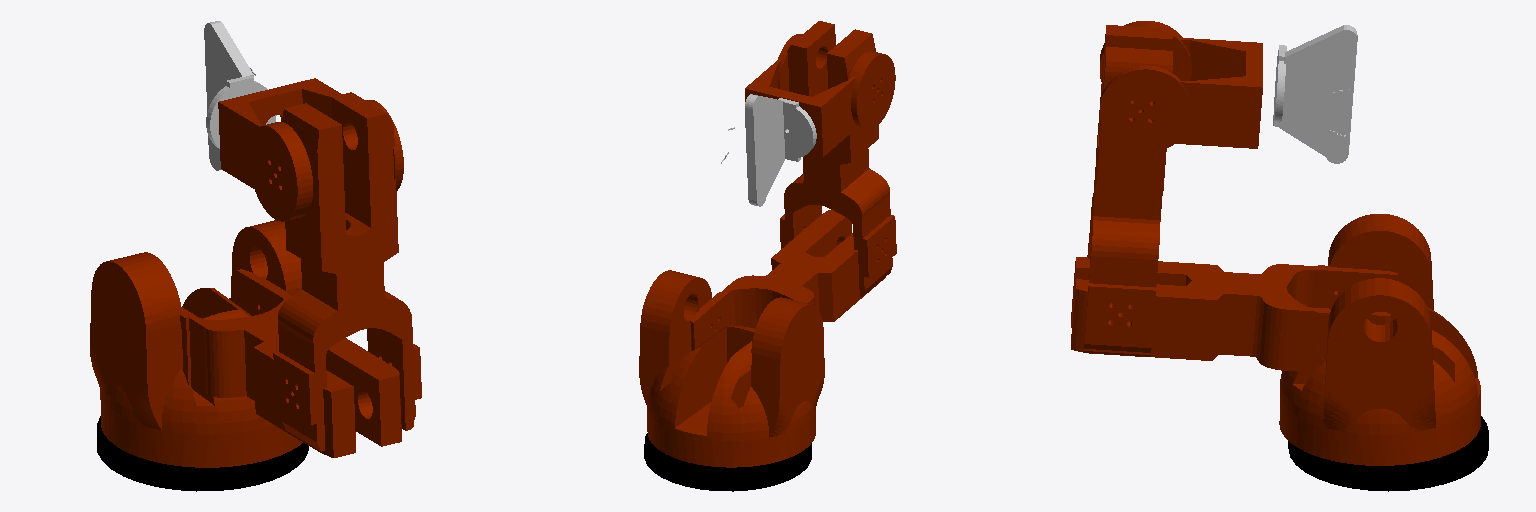
robot.urdf — braccio:
<?xml version="1.0"?>
<robot name="braccio">
     <gazebo>
     <plugin name="gazebo_ros_control" filename="libgazebo_ros_control.so">
       <robotNamespace>/robot</robotNamespace>
       <robotSimType>gazebo_ros_control/DefaultRobotHWSim</robotSimType>
       <controlPeriod>0.001</controlPeriod>
       <legacyModeNS>true</legacyModeNS>
     </plugin>
   </gazebo>
    <!-- Color de materiales -->
    <material name="orange">
        <color rgba="0.57 0.17 0.0 1" />
    </material>
    <material name="white">
        <color rgba="0.8 0.8 0.8 1.0" />
    </material>
    <material name="black">
        <color rgba="0 0 0 0.50" />
    </material>

    <!--Mascaras para partes del robot-->
    <link name="base_link">
        <visual>
            <geometry>
                <cylinder length="0.01" radius=".053" />
            </geometry>
            <material name="black" />
            <origin rpy="0 0 0" xyz="0 0 0" />
        </visual>
        <inertial>
            <origin rpy="0 0 0" xyz="0 0 0" />
            <mass value="2" />
            <inertia ixx="0.015" ixy="0" ixz="0" iyy="0.00666666666667" iyz="0" izz="0.0216666666667" />
        </inertial>
    </link>

    <link name="braccio_base_link">
        <visual>
            <geometry>
                <mesh filename="package://BRT_Description/meshes/braccio_base.stl" scale="0.01 0.01 0.01" />
            </geometry>
            <material name="orange" />
            <origin rpy="0 0 0" xyz="0 -0.0085 0.01" />
        </visual>
        <collision>
            <geometry>
                <mesh filename="package://BRT_Description/meshes/braccio_base.stl" scale="0.01 0.01 0.01" />
            </geometry>
            <origin rpy="0 0 0" xyz="0 -0.0085 0.01" />
        </collision>
        <inertial>
            <origin rpy="0 0 0" xyz="0 -0.0085 0.01" />
            <mass value="2" />
            <inertia ixx="0.015" ixy="0" ixz="0" iyy="0.00666666666667" iyz="0" izz="0.0216666666667" />
        </inertial>
    </link>

    <link name="shoulder_link">
        <visual>
            <geometry>
                <mesh filename="package://BRT_Description/meshes/braccio_shoulder.stl" scale="0.01 0.01 0.01" />
            </geometry>
            <material name="orange" />
            <origin rpy="0 0 0" xyz="-0.0055 0.001 -0.006" />
        </visual>
        <collision>
            <geometry>
                <mesh filename="package://BRT_Description/meshes/braccio_shoulder.stl" scale="0.01 0.01 0.01" />
            </geometry>
             <origin rpy="0 0 0" xyz="-0.0055 0.001 -0.006" />
        </collision>
        <inertial>
             <origin rpy="0 0 0" xyz="-0.0055 0.001 -0.006" />
            <mass value="0.1" />
            <inertia ixx="0.000348958333333" ixy="0" ixz="0" iyy="0.000348958333333" iyz="0" izz="3.125e-05" />
        </inertial>
    </link>

    <link name="elbow_link">
        <visual>
            <geometry>
                <mesh filename="package://BRT_Description/meshes/braccio_elbow.stl" scale="0.01 0.01 0.01" />
            </geometry>
            <material name="orange" />
            <origin rpy="0 0 0" xyz="-0.003 -0.01 -0.02" />
        </visual>
        <collision>
            <geometry>
                <mesh filename="package://BRT_Description/meshes/braccio_elbow.stl" scale="0.01 0.01 0.01" />
            </geometry>
            <origin rpy="0 0 0" xyz="-0.003 -0.01 -0.02" />
        </collision>
        <inertial>
            <origin rpy="0 0 0" xyz="-0.003 -0.01 -0.02" />
            <mass value="0.1" />
            <inertia ixx="0.000348958333333" ixy="0" ixz="0" iyy="0.000348958333333" iyz="0" izz="3.125e-05" />
        </inertial>
    </link>

    <link name="wrist_pitch_link">
        <visual>
            <geometry>
                <mesh filename="package://BRT_Description/meshes/braccio_wrist_pitch.stl" scale="0.01 0.01 0.01" />
            </geometry>
            <material name="orange" />
            <origin rpy="0 0 0" xyz="0.003 -0.000 -0.035" />
        </visual>
        <collision>
            <geometry>
                 <mesh filename="package://BRT_Description/meshes/braccio_wrist_pitch.stl" scale="0.01 0.01 0.01" />
            </geometry>
            <origin rpy="0 0 0" xyz="0.003 -0.000 -0.035" />
        </collision>
        <inertial>
            <origin rpy="0 0 0" xyz="0.003 -0.000 -0.035" />
            <mass value="0.1" />
            <inertia ixx="0.000348958333333" ixy="0" ixz="0" iyy="0.000348958333333" iyz="0" izz="3.125e-05" />
        </inertial>
    </link>

   <link name="wrist_roll_link">
        <visual>
            <geometry>
                <mesh filename="package://BRT_Description/meshes/braccio_wrist_roll.stl" scale="0.01 0.01 0.01" />
            </geometry>
            <material name="white" />
            <origin rpy="0 0 0" xyz="0.006 0.01 -0.001" />
        </visual>
        <collision>
            <geometry>
                <mesh filename="package://BRT_Description/meshes/braccio_wrist_roll.stl" scale="0.01 0.01 0.01" />
            </geometry>
            <origin rpy="0 0 0" xyz="0.006 0.01 -0.001" />
        </collision>
        <inertial>
            <origin rpy="0 0 0" xyz="0.006 0.01 -0.001" />
            <mass value="0.1" />
            <inertia ixx="0.000348958333333" ixy="0" ixz="0" iyy="0.000348958333333" iyz="0" izz="3.125e-05" />
        </inertial>
    </link>

    <link name="left_gripper_link">
        <visual>
            <geometry>
                <mesh filename="package://BRT_Description/meshes/braccio_left_gripper.stl" scale="0.001 0.001 0.001" />
            </geometry>
            <material name="white" />
            <origin rpy="0 1.5708 0" xyz="-0.003 -0.014 0" />
        </visual>
        <collision>
            <origin rpy="0 1.5708 0" xyz="-0.003 -0.014 0" />
            <geometry>
                 <mesh filename="package://BRT_Description/meshes/braccio_left_gripper.stl" scale="0.001 0.001 0.001" />
            </geometry>
        </collision>
        <inertial>
            <mass value="0.1" />
            <inertia ixx="0.000348958333333" ixy="0" ixz="0" iyy="0.000348958333333" iyz="0" izz="3.125e-05" />
        </inertial>
    </link>

    <link name="right_gripper_link">
        <visual>
            <geometry>
                <mesh filename="package://BRT_Description/meshes/braccio_right_gripper.stl" scale="0.001 0.001 0.001" />
            </geometry>
            <material name="white" />
            <origin rpy="0 1.5708 0" xyz="-0.003 -0.0194 0" />
        </visual>
        <collision>
            <origin rpy="0 1.5708 0" xyz="-0.003 -0.0194 0" />
            <geometry>
                 <mesh filename="package://BRT_Description/meshes/braccio_right_gripper.stl" scale="0.001 0.001 0.001" />
            </geometry>
        </collision>
        <inertial>
            <mass value="0.1" />
            <inertia ixx="0.000348958333333" ixy="0" ixz="0" iyy="0.000348958333333" iyz="0" izz="3.125e-05" />
        </inertial>
    </link>

    <!--Articulaciones del robot-->

    <joint name="base_joint" type="revolute">
        <axis xyz="0 0 -1" />
        <limit effort="1000.0" lower="0.0" upper="3.1416" velocity="1.0" />
        <origin rpy="0 0 0" xyz="0 0 0" />
        <parent link="base_link" />
        <child link="braccio_base_link" />
    </joint>
    <transmission name="base_trasmision">
        <type>transmission_interface/SimpleTransmission</type>
        <joint name="base_joint">
            <hardwareInterface>
                hardware_interface/PositionJointInterface
            </hardwareInterface>
        </joint>
        <actuator name="base_motor">
        <mechanicalReduction>1</mechanicalReduction>
        </actuator>
    </transmission>

    <joint name="shoulder_joint" type="revolute">
        <axis xyz="1 0 0" />
        <limit effort="1000.0" lower="0.2" upper="2.8" velocity="1.0" />
        <origin rpy="0 0 0" xyz="0 -0.002 0.072" />
        <parent link="braccio_base_link" />
        <child link="shoulder_link" />
    </joint>
    <transmission name="shoulder_trasmision">
        <type>transmission_interface/SimpleTransmission</type>
        <joint name="shoulder_joint">
            <hardwareInterface>
                hardware_interface/PositionJointInterface
            </hardwareInterface>
        </joint>
        <actuator name="shoulder_motor">
        <mechanicalReduction>1</mechanicalReduction>
        </actuator>
    </transmission>

    <joint name="elbow_joint" type="revolute">
        <axis xyz="1 0 0" />
        <limit effort="1000.0" lower="0.0" upper="3.1416" velocity="1.0" />
        <origin rpy="-1.5708 0 0" xyz="0 0 0.125" />
        <parent link="shoulder_link" />
        <child link="elbow_link" />
    </joint>
    <transmission name="elbow_trasmision">
        <type>transmission_interface/SimpleTransmission</type>
        <joint name="elbow_joint">
            <hardwareInterface>
                hardware_interface/PositionJointInterface
            </hardwareInterface>
        </joint>
        <actuator name="elbow_motor">
        <mechanicalReduction>1</mechanicalReduction>
        </actuator>
    </transmission>

    <joint name="wrist_pitch_joint" type="revolute">
        <axis xyz="1 0 0" />
        <limit effort="1000.0" lower="0.0" upper="3.1416" velocity="1.0" />
        <origin rpy="-1.5708 0 0" xyz="0 0 0.125" />
        <parent link="elbow_link" />
        <child link="wrist_pitch_link" />
    </joint>
    <transmission name="wrist_pitch_trasmision">
        <type>transmission_interface/SimpleTransmission</type>
        <joint name="wrist_pitch_joint">
            <hardwareInterface>
                hardware_interface/PositionJointInterface
            </hardwareInterface>
        </joint>
        <actuator name="wrist_pitch_motor">
        <mechanicalReduction>1</mechanicalReduction>
        </actuator>
    </transmission>

    <joint name="wrist_roll_joint" type="revolute">
        <axis xyz="0 0 -1" />
        <limit effort="1000.0" lower="0.0" upper="3.1416" velocity="1.0" />
        <origin rpy="0 0 1.5708" xyz="0 0.0 0.06" />
        <parent link="wrist_pitch_link" />
        <child link="wrist_roll_link" />
    </joint>
    <transmission name="wrist_roll_trasmision">
        <type>transmission_interface/SimpleTransmission</type>
        <joint name="wrist_roll_joint">
            <hardwareInterface>
                hardware_interface/PositionJointInterface
            </hardwareInterface>
        </joint>
        <actuator name="wrist_roll_motor">
        <mechanicalReduction>1</mechanicalReduction>
        </actuator>
    </transmission>

    <joint name="gripper_joint" type="revolute">
        <axis xyz="0 -1 0" />
        <limit effort="1000.0" lower="0.95" upper="1.54" velocity="1.0" />
        <origin rpy="0 0 0" xyz="0.010 0 0.03" />
        <parent link="wrist_roll_link" />
        <child link="right_gripper_link" />
    </joint>
    <transmission name="gripper_trasmision">
        <type>transmission_interface/SimpleTransmission</type>
        <joint name="gripper_joint">
            <hardwareInterface>
                hardware_interface/PositionJointInterface
            </hardwareInterface>
        </joint>
        <actuator name="gripper_motor">
        <mechanicalReduction>1</mechanicalReduction>
        </actuator>
    </transmission>
    

    <joint name="sub_gripper_joint" type="revolute">
        <axis xyz="0 1 0" />
        <mimic joint="gripper_joint" />
        <limit effort="1000.0" lower="0.95" upper="1.54" velocity="1.0" />
        <origin rpy="0 3.1416 0" xyz="-0.010 0 0.03" />
        <parent link="wrist_roll_link" />
        <child link="left_gripper_link" />
    </joint>
    <transmission name="sub_gripper_trasmision">
        <type>transmission_interface/SimpleTransmission</type>
        <joint name="sub_gripper_joint">
            <hardwareInterface>
                hardware_interface/PositionJointInterface
            </hardwareInterface>
        </joint>
        <actuator name="sub_gripper_motor">
        <mechanicalReduction>1</mechanicalReduction>
        </actuator>
    </transmission>
    
     <link name="world"/>
    <joint name="world_joint" type="fixed">
        <parent link="world"/>
        <child link="base_link"/>
        <origin rpy="0.0 0.0 0.0" xyz="0.0 0.0 0.0"/>
    </joint>
    
    <gazebo reference="base_link">
        <mu1>1</mu1>
        <mu2>1</mu2>
        <selfCollide>true</selfCollide>
        <material>Gazebo/black</material>
    </gazebo>

  <gazebo reference="braccio_base_link">
    <material>Gazebo/Orange</material>
    <mu1>1</mu1>
    <mu2>1</mu2>
    <selfCollide>true</selfCollide>
  </gazebo>
  <gazebo reference="shoulder_link">
    <material>Gazebo/Orange</material>
    <mu1>1</mu1>
    <mu2>1</mu2>
    <selfCollide>true</selfCollide>
  </gazebo>
  <gazebo reference="elbow_link">
    <material>Gazebo/Orange</material>
    <mu1>1</mu1>
    <mu2>1</mu2>
    <selfCollide>true</selfCollide>
  </gazebo>
  <gazebo reference="wrist_pitch_link">
    <material>Gazebo/Orange</material>
    <mu1>1</mu1>
    <mu2>1</mu2>
    <selfCollide>true</selfCollide>
  </gazebo>
  <gazebo reference="wrist_roll_link">
    <material>Gazebo/Orange</material>
    <mu1>1</mu1>
    <mu2>1</mu2>
    <selfCollide>true</selfCollide>
  </gazebo>
  <gazebo reference="right_gripper_link">
    <material>Gazebo/White</material>
    <selfCollide>true</selfCollide>
    <kp>100000.0</kp>
    <kd>1.0</kd>
    <mu1>500.0</mu1>
    <mu2>200.0</mu2>
    <minDepth>0.002</minDepth>
    <maxVel>0</maxVel>
  </gazebo>
  <gazebo reference="left_gripper_link">
    <material>Gazebo/White</material>
    <selfCollide>true</selfCollide>
    <kp>100000.0</kp>
    <kd>1.0</kd>
    <mu1>500.0</mu1>
    <mu2>200.0</mu2>
    <minDepth>0.002</minDepth>
    <maxVel>0</maxVel>
  </gazebo>
    <gazebo reference="gripper_joint">
        <implicitSpringDamper>1</implicitSpringDamper>
    </gazebo>
    <gazebo reference="sub_gripper_joint">
     <implicitSpringDamper>1</implicitSpringDamper>
    </gazebo>
</robot>

--- Render facts (derived) ---
Views: 3 orthographic renders of the robot side by side, from view 1: azimuth 30°, elevation 25°; view 2: azimuth 150°, elevation 25°; view 3: azimuth 270°, elevation 25°.
Model braccio with 9 links and 8 joints (7 revolute, 1 fixed), rooted at world, posed joints at zero except 3 at the middle of their limits (shoulder_joint = 1.5, gripper_joint = 1.25, sub_gripper_joint = 1.25).
Links seen in each view (by area): view 1: elbow_link, braccio_base_link, shoulder_link, wrist_pitch_link, base_link, wrist_roll_link; view 2: braccio_base_link, elbow_link, shoulder_link, wrist_pitch_link, wrist_roll_link, base_link; view 3: braccio_base_link, shoulder_link, elbow_link, wrist_pitch_link, wrist_roll_link, base_link.
Link boxes in pixels (bbox=[...]): elbow_link: bbox=[273, 92, 421, 451]; braccio_base_link: bbox=[90, 220, 302, 467]; shoulder_link: bbox=[180, 269, 401, 457]; wrist_pitch_link: bbox=[218, 78, 403, 221]; base_link: bbox=[97, 416, 308, 491]; wrist_roll_link: bbox=[204, 21, 276, 170]; braccio_base_link: bbox=[639, 270, 824, 467]; elbow_link: bbox=[780, 21, 896, 296]; shoulder_link: bbox=[690, 210, 885, 350]; wrist_pitch_link: bbox=[745, 34, 895, 156]; wrist_roll_link: bbox=[745, 94, 816, 206]; base_link: bbox=[644, 433, 811, 491]; braccio_base_link: bbox=[1279, 214, 1480, 465]; shoulder_link: bbox=[1071, 257, 1397, 372]; elbow_link: bbox=[1083, 25, 1172, 356]; wrist_pitch_link: bbox=[1100, 21, 1262, 152]; wrist_roll_link: bbox=[1273, 25, 1357, 163]; base_link: bbox=[1288, 416, 1488, 491].
Bounding box of the posed robot: 0.1065 × 0.2209 × 0.2434 m (x, y, z).
7 mesh visuals loaded from 7 distinct referenced files (7 binary STL).